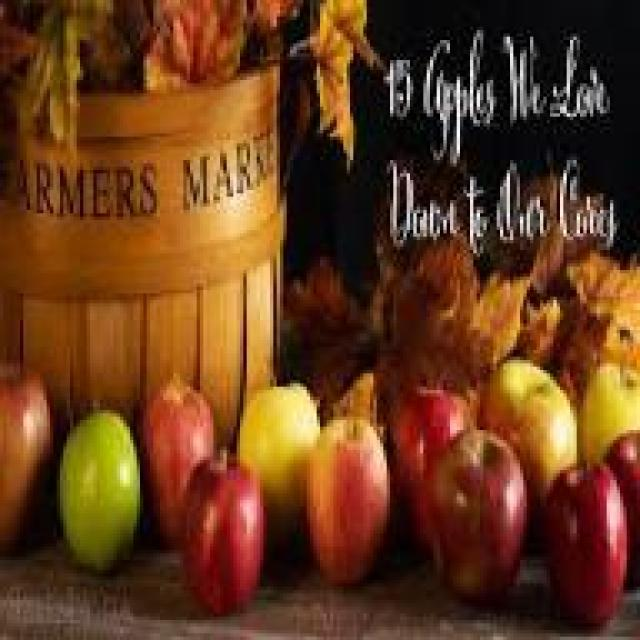apple: (430, 420, 527, 593), (483, 346, 580, 516), (380, 380, 470, 547), (307, 417, 393, 590), (183, 457, 270, 613), (53, 410, 140, 563), (540, 467, 627, 613), (236, 384, 316, 534), (144, 377, 214, 543), (4, 360, 54, 557)
